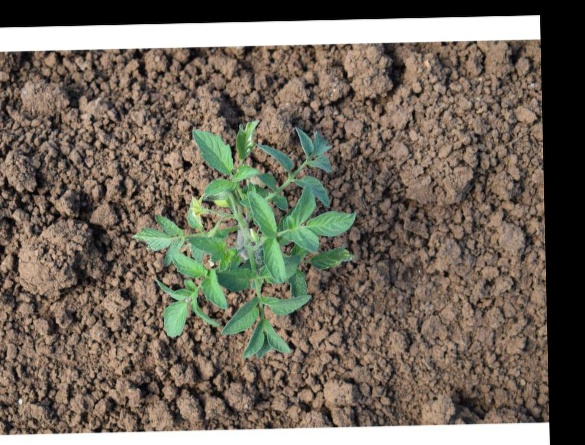tomato: (132, 116, 353, 357)
